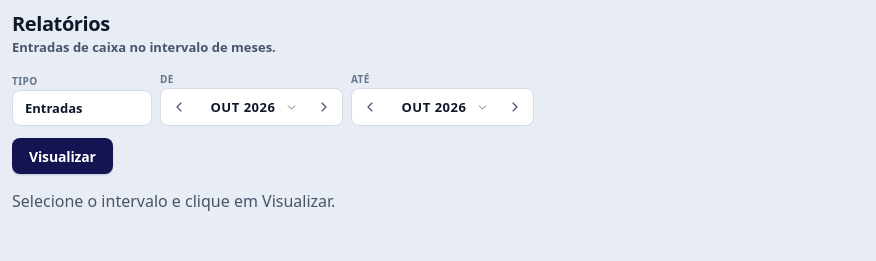
página /relatorios › erro no consolidado não monta a seção de lançamentos
The image size is (876, 261).
Click the button with aria-label "Visualizar relatório": (62, 156) [12, 138, 113, 174]
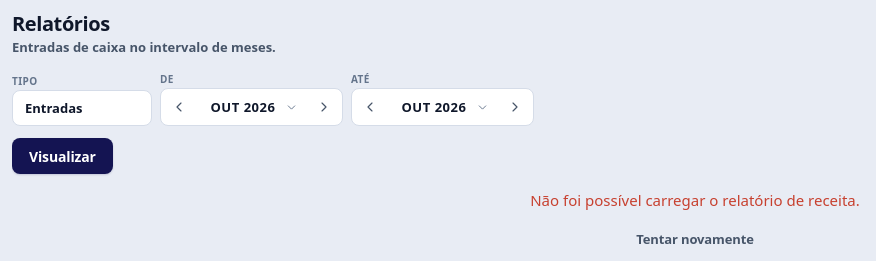
Check: the text "Não foi possível carregar o relatório de receita." is shown, box [530, 190, 860, 212]
